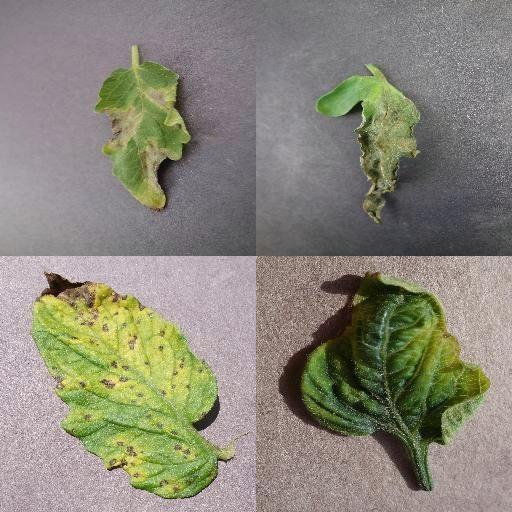Late Blight: (315, 75, 423, 225), (95, 61, 193, 213)
Septoria: (34, 272, 220, 498)
Yellow Leaf Curl Virus: (301, 272, 491, 446)
